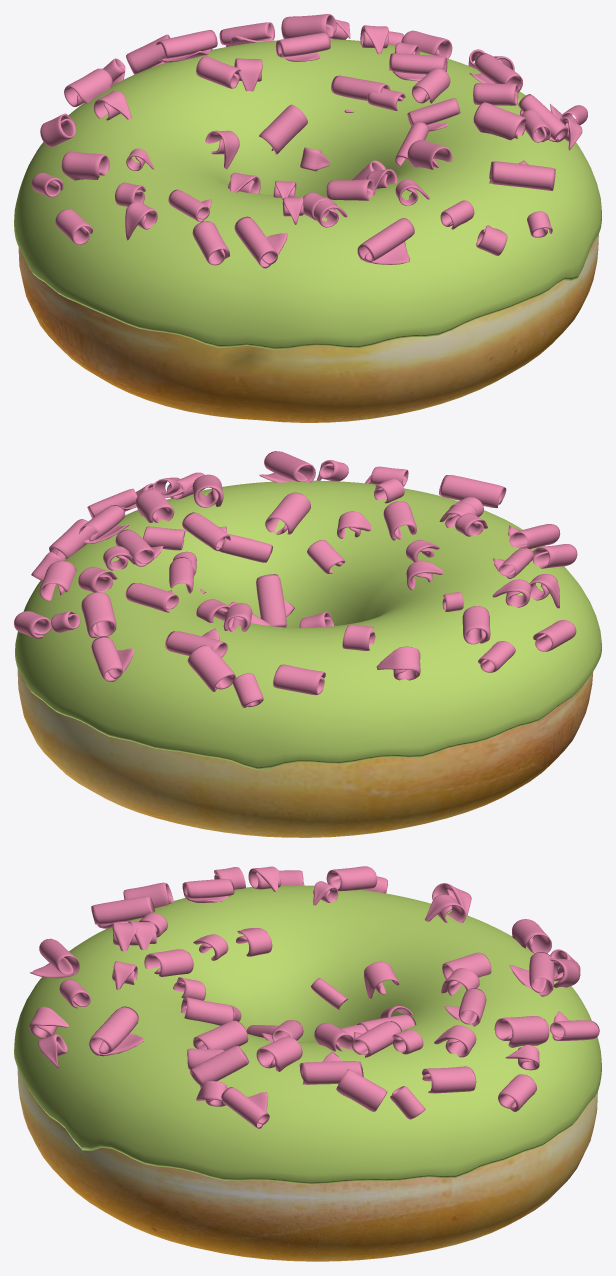
File: pistachio strawberry curls.glb
The picture shows the model from 3 angles, top to bottom: view 1: azimuth 30°, elevation 25°; view 2: azimuth 150°, elevation 25°; view 3: azimuth 270°, elevation 25°; orthographic projection. The views are drawn at different scales.
Visible parts, largest first — view 1: chocolate, choco & straw, Torus; view 2: chocolate, choco & straw, Torus; view 3: chocolate, choco & straw, Torus.
Part boxes in pixels (x1,y1,x2,y2): chocolate: [14, 39, 601, 349]; choco & straw: [31, 14, 587, 268]; Torus: [18, 234, 598, 422]; chocolate: [15, 480, 601, 769]; choco & straw: [14, 451, 577, 707]; Torus: [17, 668, 592, 837]; chocolate: [14, 885, 601, 1184]; choco & straw: [29, 866, 599, 1128]; Torus: [17, 1067, 597, 1261].
Bounding box in the file's own units: 0.1988 × 0.0804 × 0.1971.
3 materials, 1 textured.
